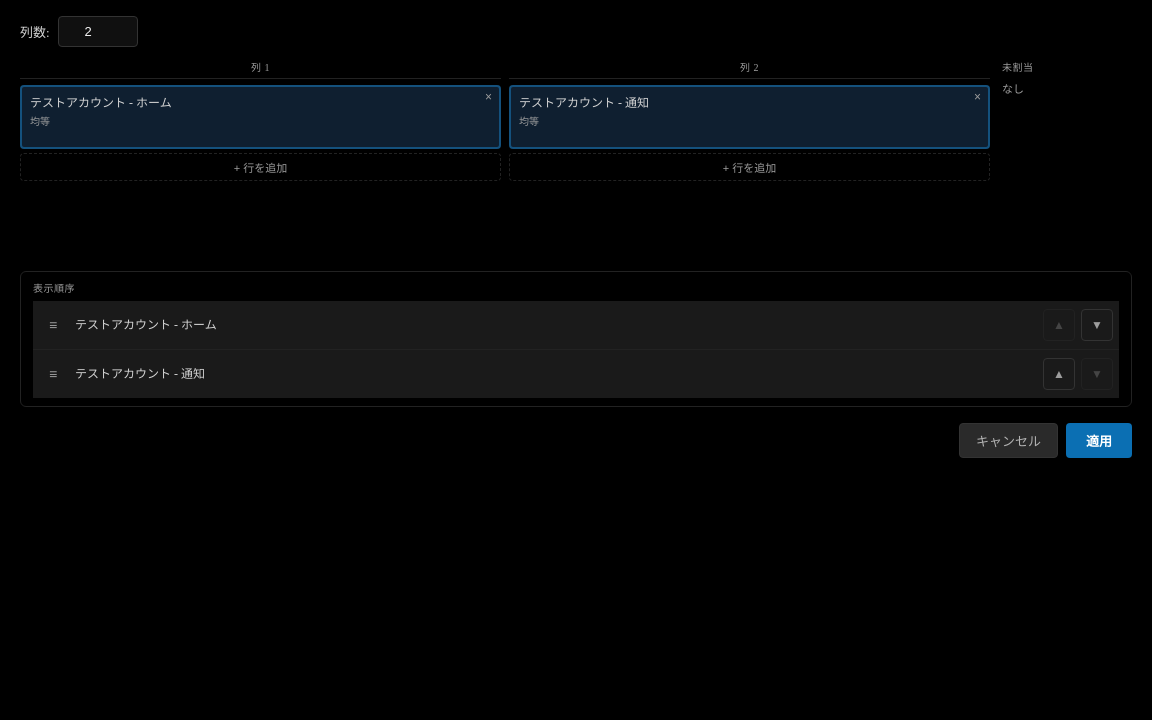
Scenario: ColumnLayoutTab › セルをクリックして高さ設定が表示される
Step 1. Click the text "テストアカウント - ホーム" below "列 1" → {"x": 101, "y": 103}, box [30, 96, 172, 110]
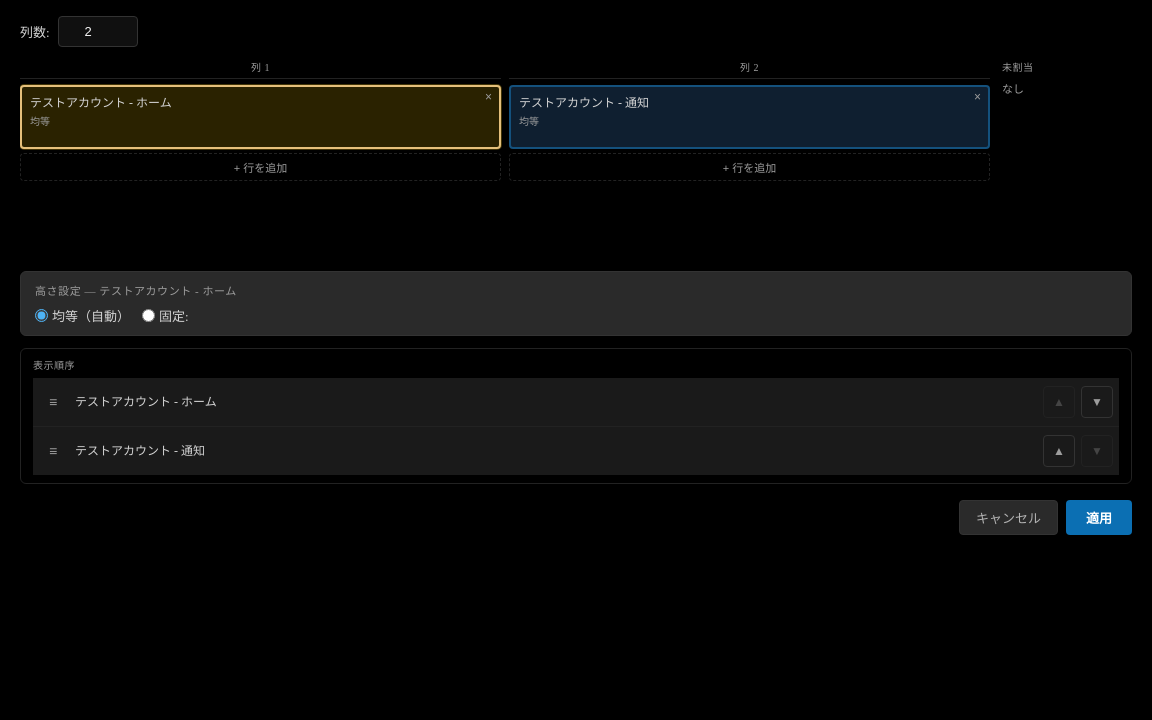
Expected: the text "高さ設定 — テストアカウント - ホーム" is shown, [35, 285, 237, 297]
